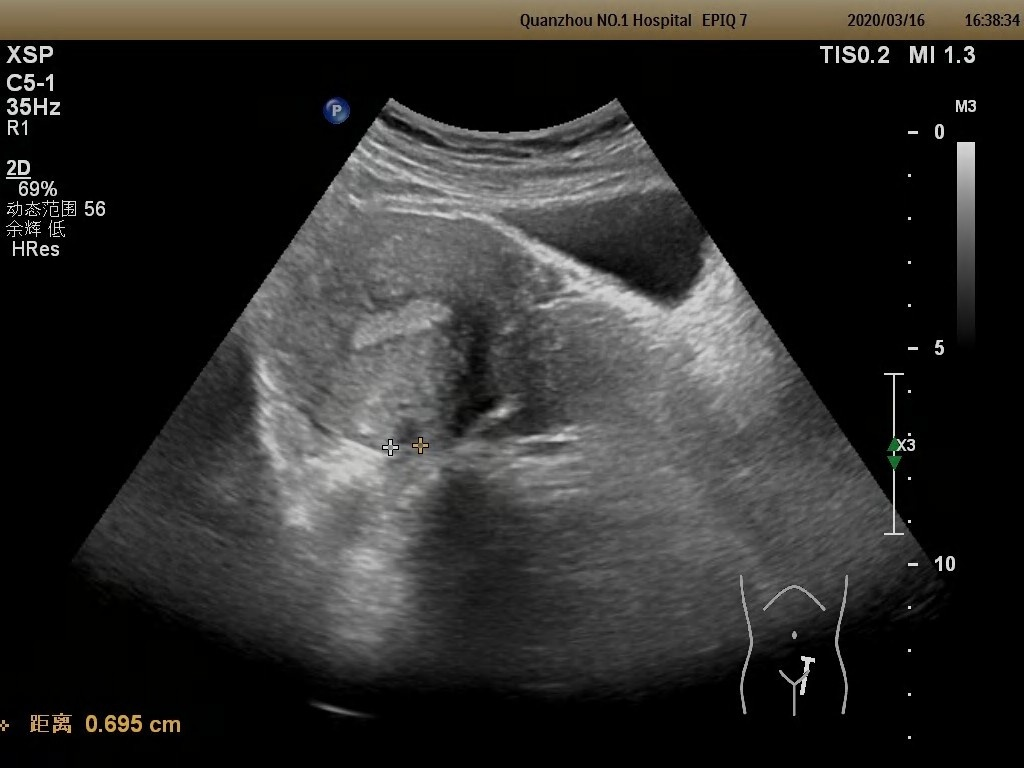肌瘤: (394, 417, 426, 448)
